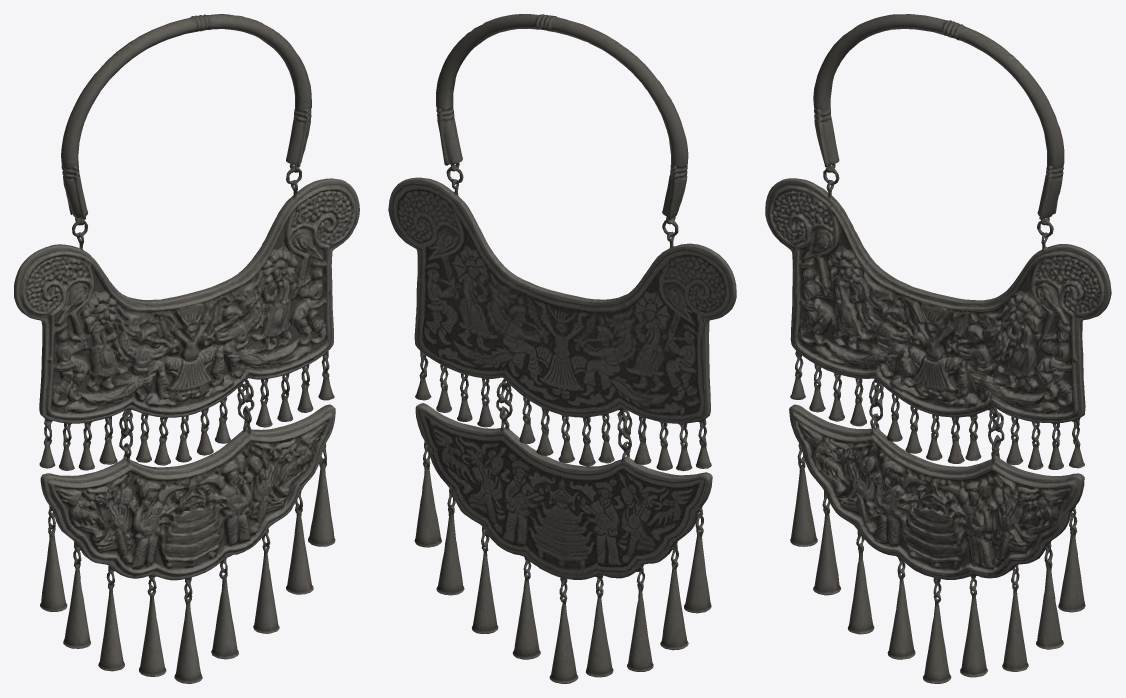
The model's file is hero-tribal.glb.
3 views of the same model, side by side, from view 1: azimuth 30°, elevation 25°; view 2: azimuth 150°, elevation 25°; view 3: azimuth 330°, elevation 25° (orthographic).
Size of the model in its own units: 1.03 by 1.89 by 0.079.
1 material, 1 textured.
